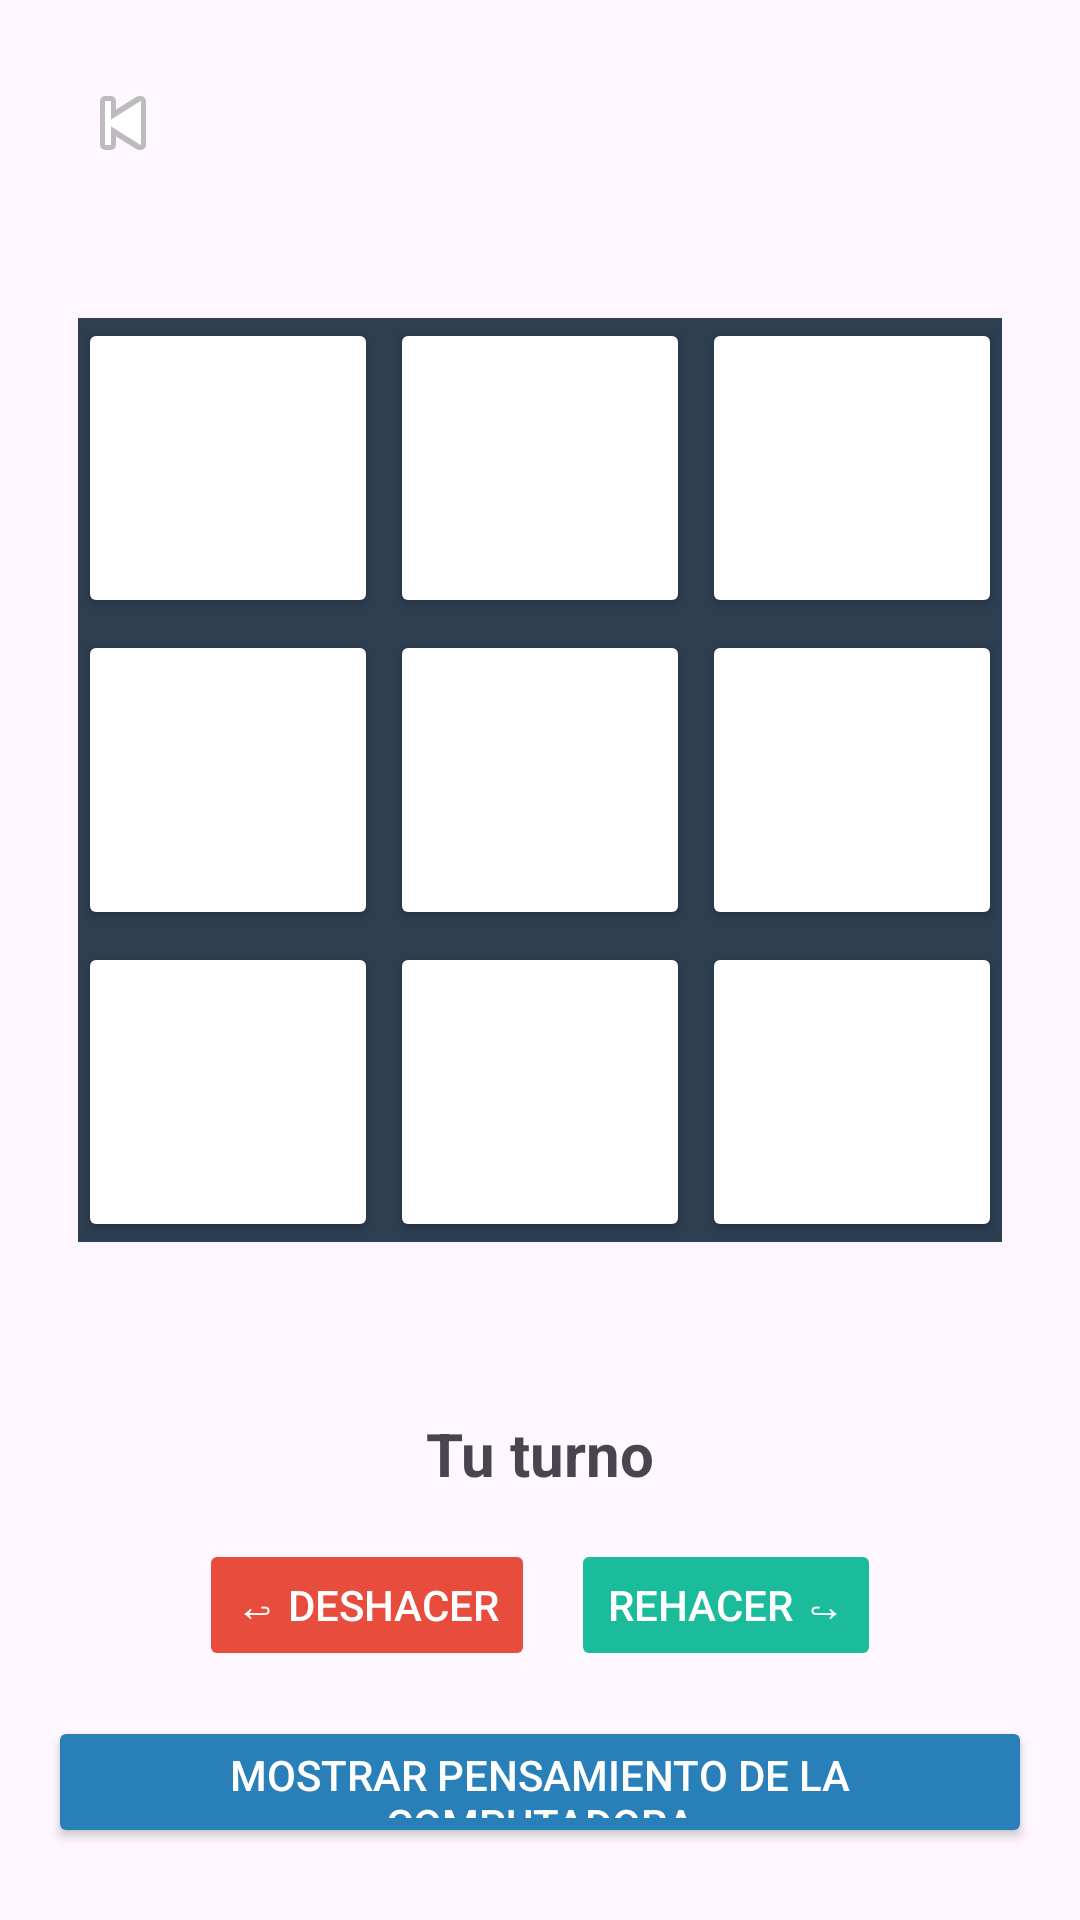

Icon bounding boxes for this 1080px x 1920px phone screenshot, format (x1, y1, x2, y2):
Regresar: (100, 96, 146, 150)
